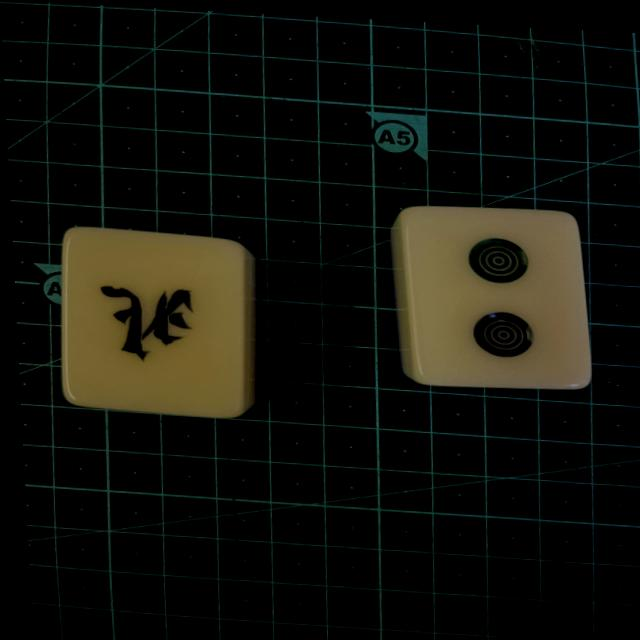north: (74, 242, 241, 409)
t2: (403, 206, 587, 392)
